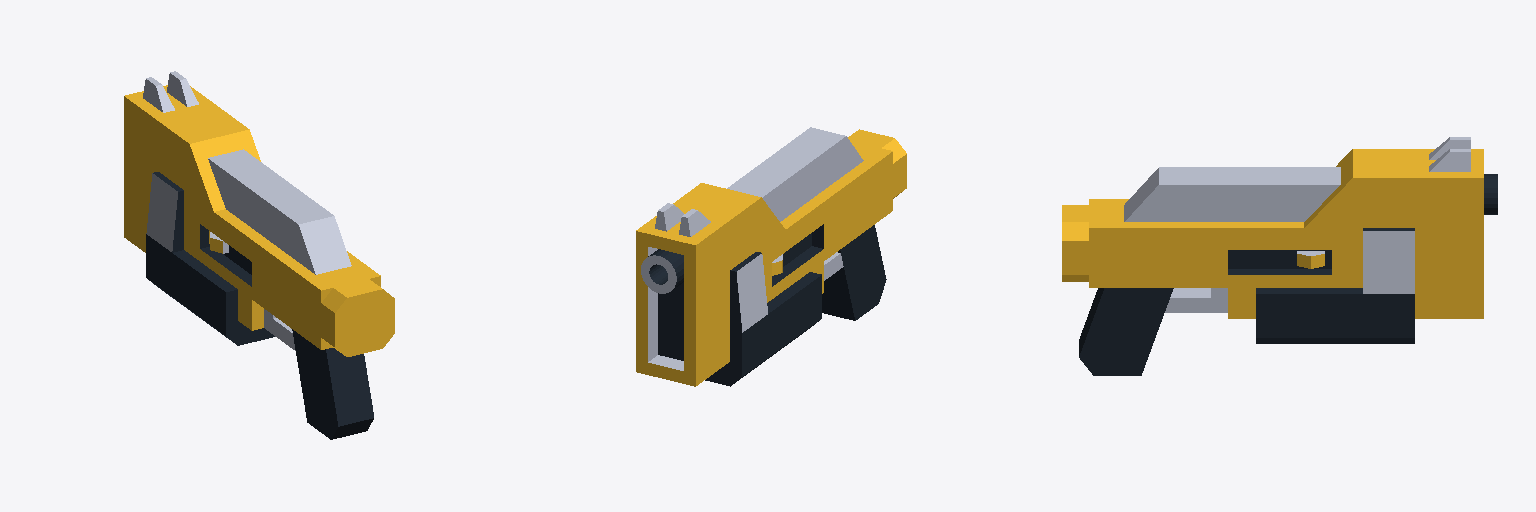
The model's file is blasterM.obj.
3 renders of one model, left to right at view 1: azimuth 30°, elevation 25°; view 2: azimuth 150°, elevation 25°; view 3: azimuth 270°, elevation 25°, orthographic.
Parts seen in each view (by area): view 1: blasterM; view 2: blasterM; view 3: blasterM.
Boxes of the visible parts, x1,y1,x2,y2 form: blasterM: [124, 71, 394, 439]; blasterM: [636, 127, 906, 386]; blasterM: [1062, 137, 1497, 375].
Size of the model in its own units: 0.14 by 0.355 by 0.63.